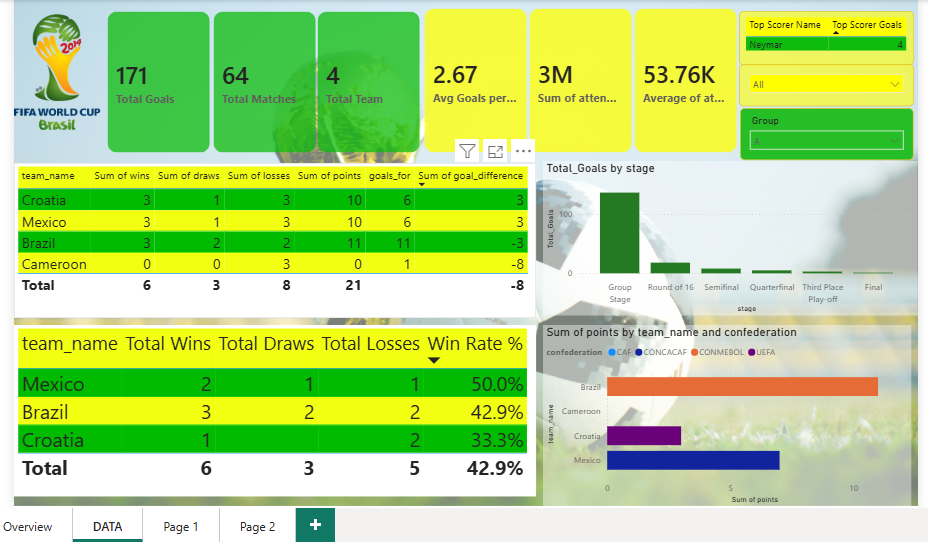

This screenshot's page, from the dashboard's own definition file:
{"tool":"powerbi","page":{"name":"DATA","canvas":[1280,720],"ordinal":1},"visuals":[{"type":"cardVisual","fields":{"Data":["matches.Total_Goals"]},"box":[121,4,169.4,224.6],"z":0},{"type":"cardVisual","fields":{"Data":["matches.Total Matches"]},"box":[270.3,4,169.4,224.6],"z":1000},{"type":"cardVisual","fields":{"Data":["CountNonNull(teams.team_id)"]},"box":[418.2,4,169.4,224.6],"z":2000},{"type":"cardVisual","fields":{"Data":["matches.Avg_Goals_per_Match"]},"box":[570.2,0,169.4,228.6],"z":3000},{"type":"cardVisual","fields":{"Data":["Sum(matches.attendance)"]},"box":[718.1,0,169.4,228.6],"z":4000},{"type":"cardVisual","fields":{"Data":["Avg(matches.attendance)"]},"box":[867.4,0,169.4,228.6],"z":5000},{"type":"tableEx","fields":{"Values":["players.Top Scorer Name","players.Top Scorer Goals"]},"box":[1027.4,15,248,77],"z":6000},{"type":"slicer","fields":{"Values":["teams.team_name"]},"box":[1027.4,91,248,60],"z":7000},{"type":"tableEx","fields":{"Values":["match_stats.team_name","match_stats.Total Wins","match_stats.Total Draws","match_stats.Total Losses","match_stats.Win Rate %"]},"box":[0,461.3,739.7,243.4],"z":8000},{"type":"image","box":[0,4.3,121.7,195.5],"z":9000},{"type":"clusteredColumnChart","fields":{"Category":["matches.stage"],"Y":["matches.Total_Goals"]},"box":[749.1,228.6,531.2,219.2],"z":10000},{"type":"tableEx","fields":{"Values":["match_stats.team_name","Sum(teams.wins)","Sum(teams.draws)","Sum(teams.losses)","Sum(teams.points)","teams.goals_for","Sum(teams.goal_difference)"]},"box":[0,231.3,739.7,219.2],"z":11000},{"type":"barChart","fields":{"Category":["match_stats.team_name"],"Y":["Sum(teams.points)"],"Series":["teams.confederation"]},"box":[749.1,461.3,521.8,258.2],"z":12000},{"type":"slicer","fields":{"Values":["teams.group_name","teams.confederation","teams.tactical_style"]},"box":[1028.8,153.3,246,74],"z":13000}]}

Visuals, with their boxes on the page's 1280x720 design canvas (x1, y1, x2, y2). These are canvas units, not pixel positions in the 928x542 screenshot, which may show the page scaled, cropped or inside an application window:
cardVisual - matches.Total_Goals: x1=121, y1=4, x2=290, y2=229
cardVisual - matches.Total Matches: x1=270, y1=4, x2=440, y2=229
cardVisual - CountNonNull(teams.team_id): x1=418, y1=4, x2=588, y2=229
cardVisual - matches.Avg_Goals_per_Match: x1=570, y1=0, x2=740, y2=229
cardVisual - Sum(matches.attendance): x1=718, y1=0, x2=888, y2=229
cardVisual - Avg(matches.attendance): x1=867, y1=0, x2=1037, y2=229
tableEx - players.Top Scorer Name x players.Top Scorer Goals: x1=1027, y1=15, x2=1275, y2=92
slicer - teams.team_name: x1=1027, y1=91, x2=1275, y2=151
tableEx - match_stats.team_name x match_stats.Total Wins: x1=0, y1=461, x2=740, y2=705
image: x1=0, y1=4, x2=122, y2=200
clusteredColumnChart - matches.stage x matches.Total_Goals: x1=749, y1=229, x2=1280, y2=448
tableEx - match_stats.team_name x Sum(teams.wins): x1=0, y1=231, x2=740, y2=450
barChart - match_stats.team_name x Sum(teams.points): x1=749, y1=461, x2=1271, y2=720
slicer - teams.group_name x teams.confederation: x1=1029, y1=153, x2=1275, y2=227
